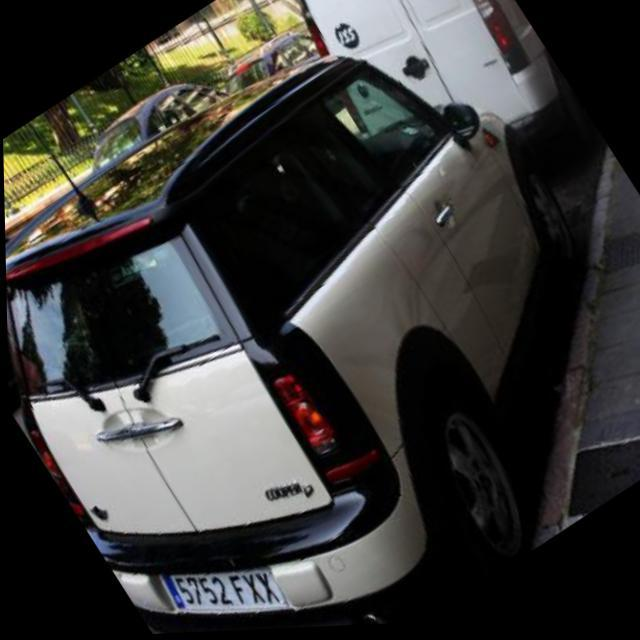license_plate: (153, 522, 290, 635)
